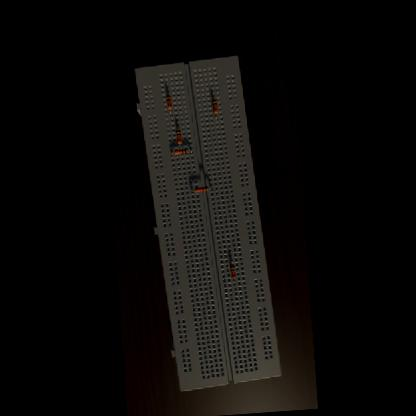breadboard: (132, 54, 282, 394)
resistor: (212, 99, 218, 114), (166, 95, 172, 110), (194, 186, 208, 192), (176, 130, 182, 144), (173, 149, 187, 155), (230, 264, 235, 278)
wire: (230, 259, 232, 264), (188, 151, 192, 153), (215, 114, 216, 120), (208, 188, 211, 190), (179, 145, 180, 150), (192, 190, 194, 192), (171, 154, 173, 156), (233, 279, 235, 280), (213, 98, 214, 100), (177, 128, 178, 130), (170, 110, 170, 115), (168, 92, 168, 94)
